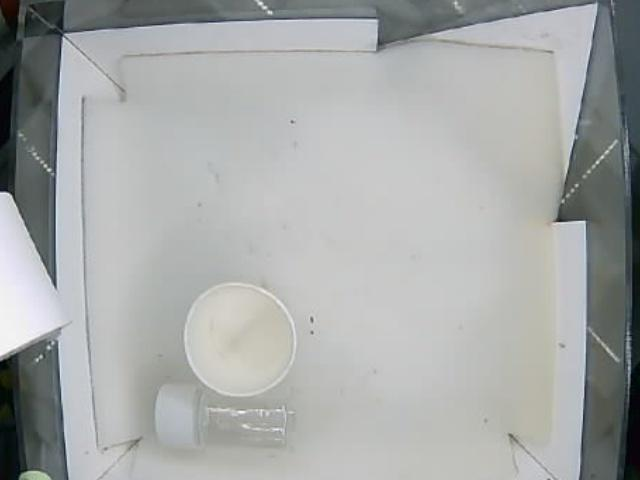Bottle: (152, 383, 292, 452)
Cup: (179, 282, 297, 396)
